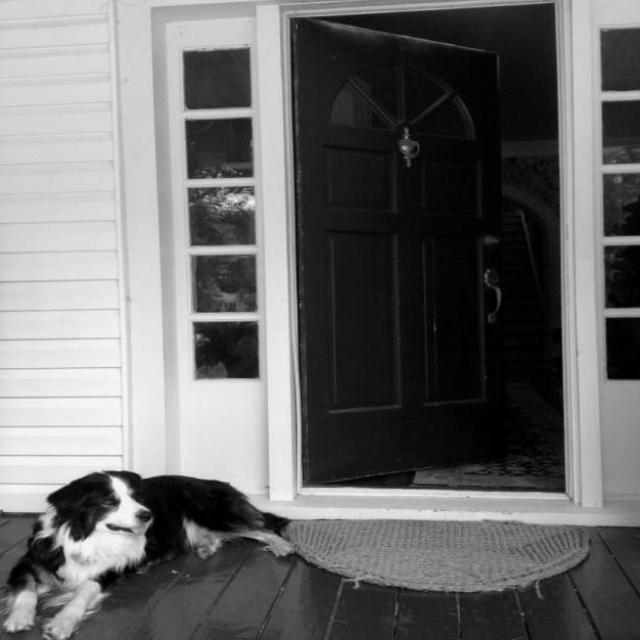door: (289, 18, 504, 485)
